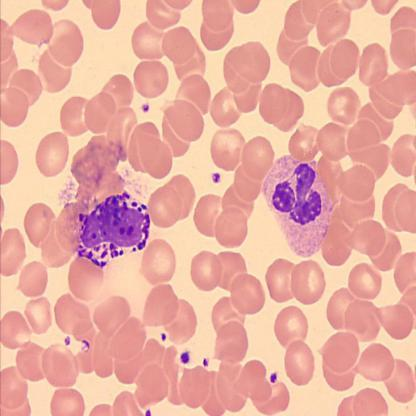Basophil: (72, 190, 153, 270)
